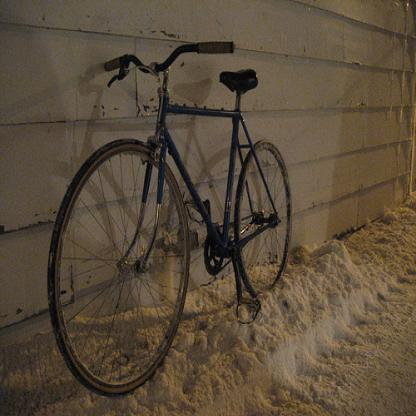bicycle: (45, 40, 294, 398)
